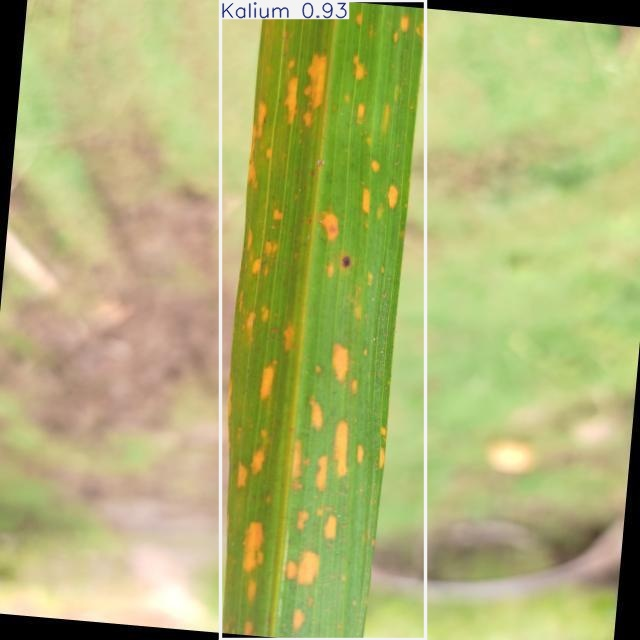Kalium: (221, 0, 426, 640)
